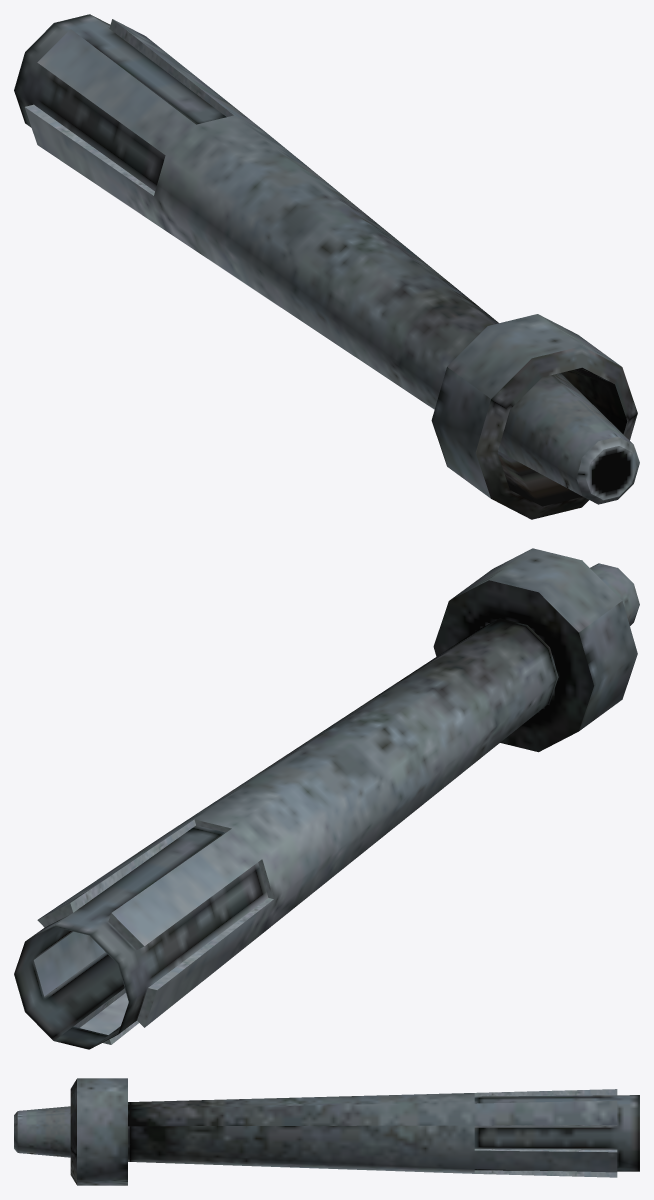
File: vt49_turret_barrel_s02_l0.fbx
3 views of the same model, one above another, from view 1: azimuth 30°, elevation 25°; view 2: azimuth 150°, elevation 25°; view 3: azimuth 270°, elevation 25° (orthographic). The views are drawn at different scales.
Visible parts, largest first — view 1: mesh_node; view 2: mesh_node; view 3: mesh_node.
Part boxes in pixels (x1=…): mesh_node: x1=14, y1=14, x2=639, y2=519; mesh_node: x1=14, y1=548, x2=639, y2=1049; mesh_node: x1=14, y1=1078, x2=639, y2=1185.
Bounding box in the file's own units: 0.24 × 0.2283 × 1.39.
1 material, 1 textured.
